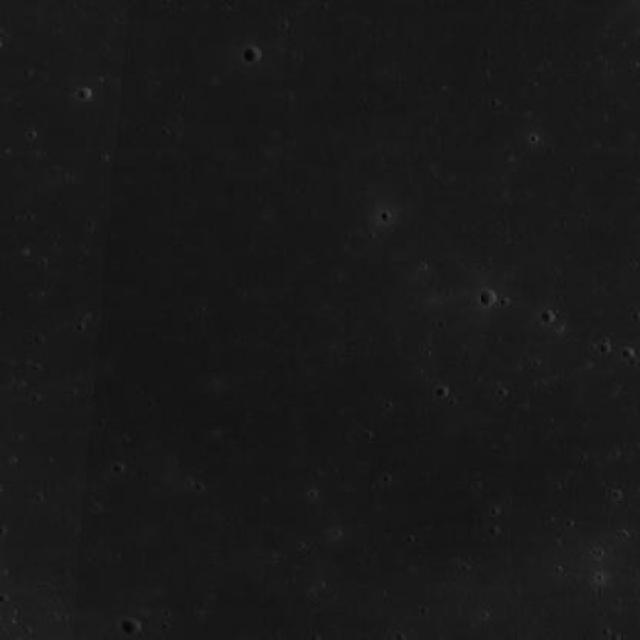crater: (122, 618, 141, 637), (243, 47, 262, 64), (480, 290, 497, 306)
